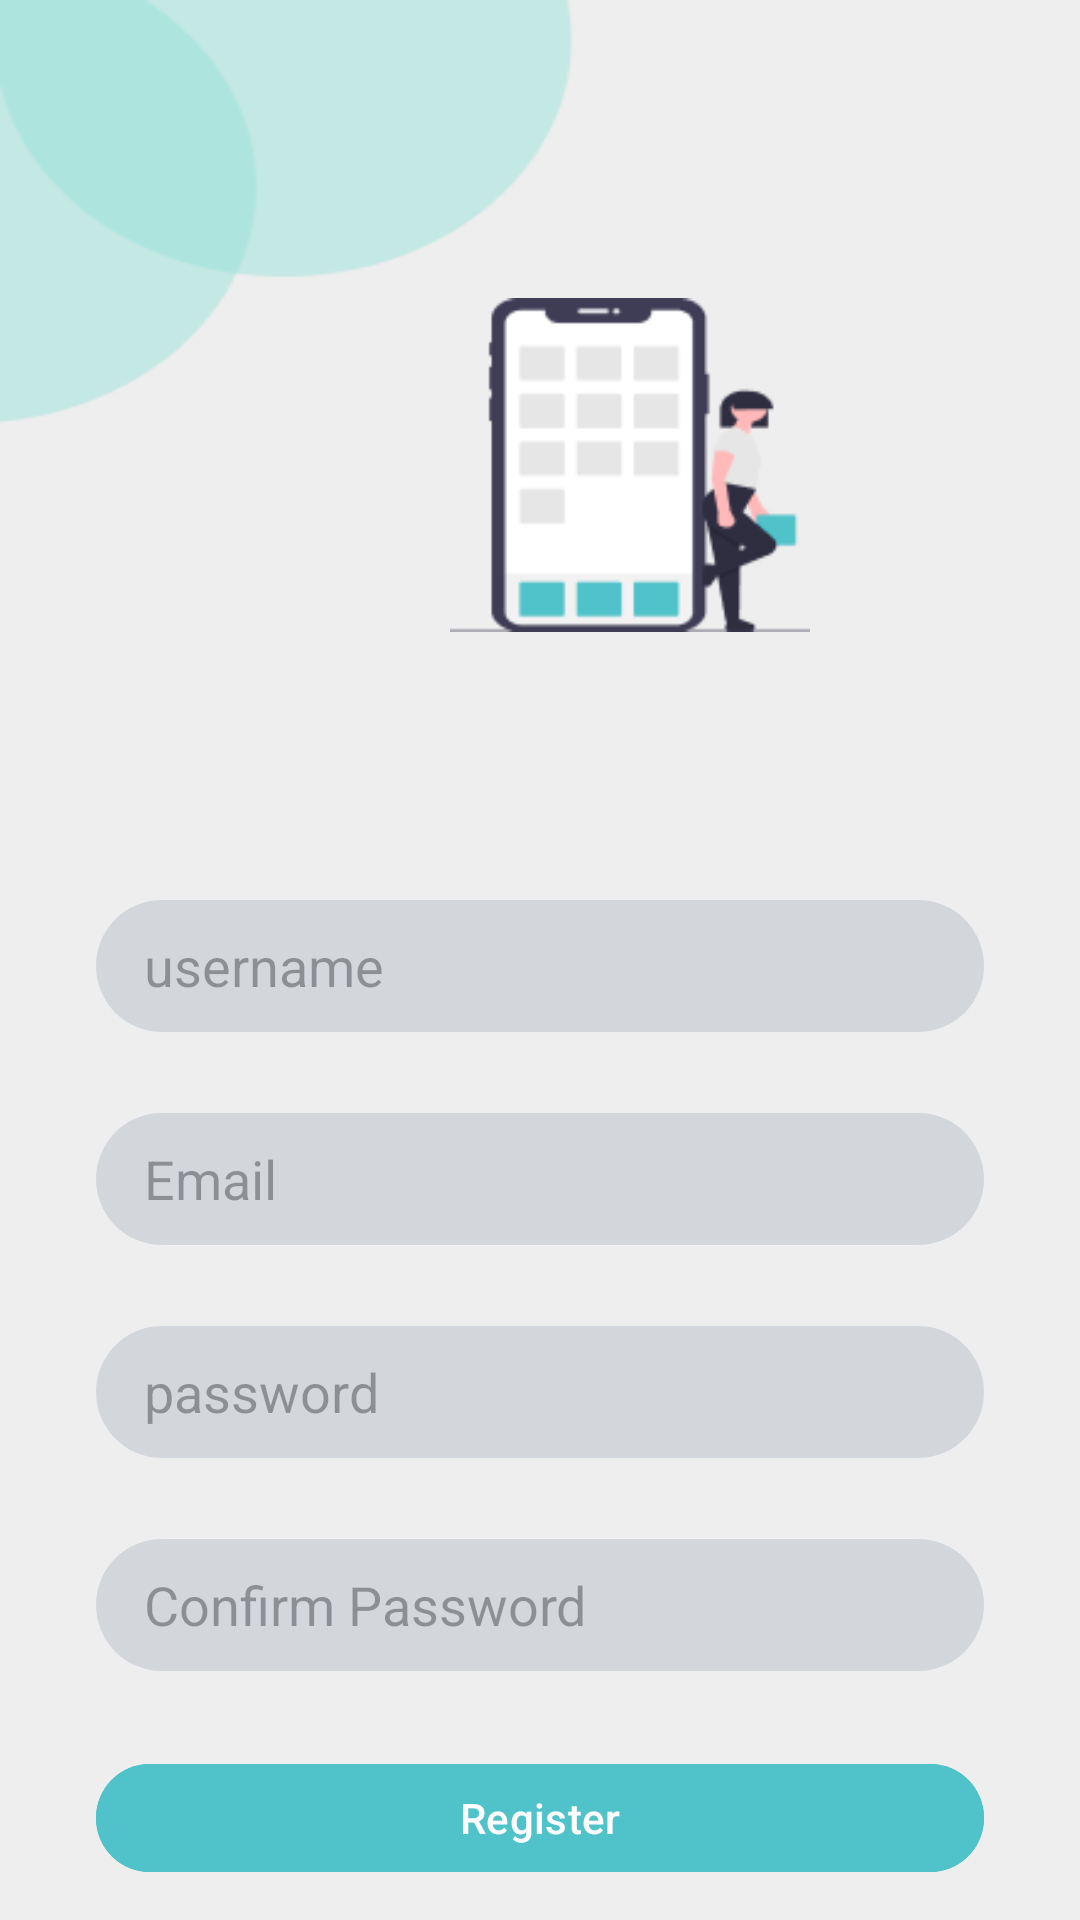

Where to tap for icons on this 1080x1920 app screen, as (x,y):
homescreen: (630,465)
